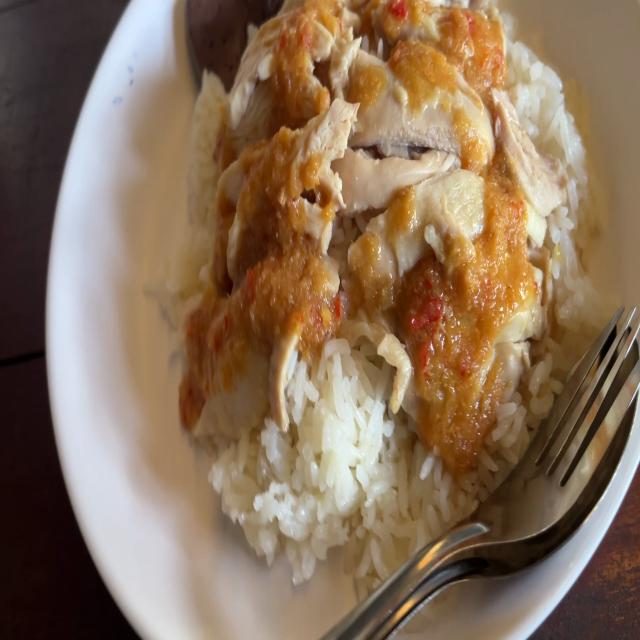chicken_rice: (230, 3, 499, 425)
noodle: (187, 0, 274, 78)
